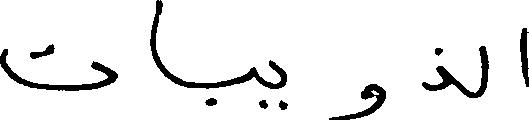X: (0, 39, 116, 95), (206, 62, 258, 110), (332, 79, 384, 119), (260, 55, 286, 114), (423, 43, 450, 95), (148, 0, 163, 78), (517, 23, 528, 91), (481, 41, 489, 100)
